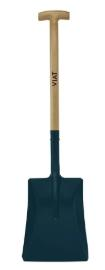PELLE: (21, 7, 105, 270)
